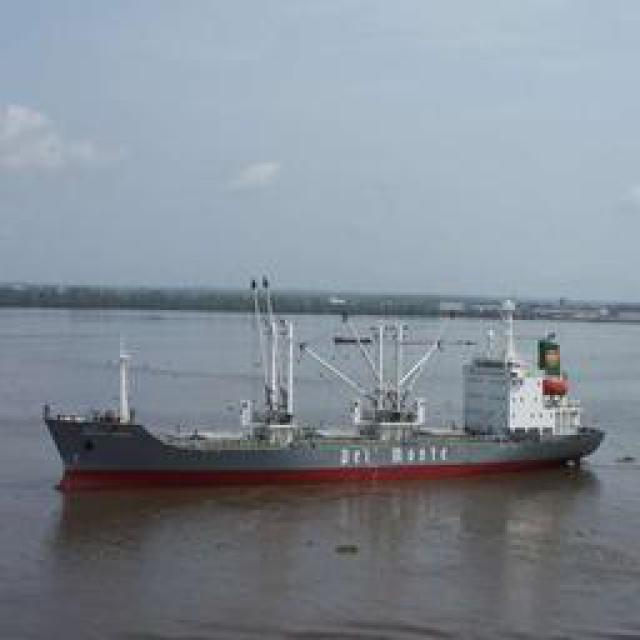Ship: (45, 286, 610, 494)
